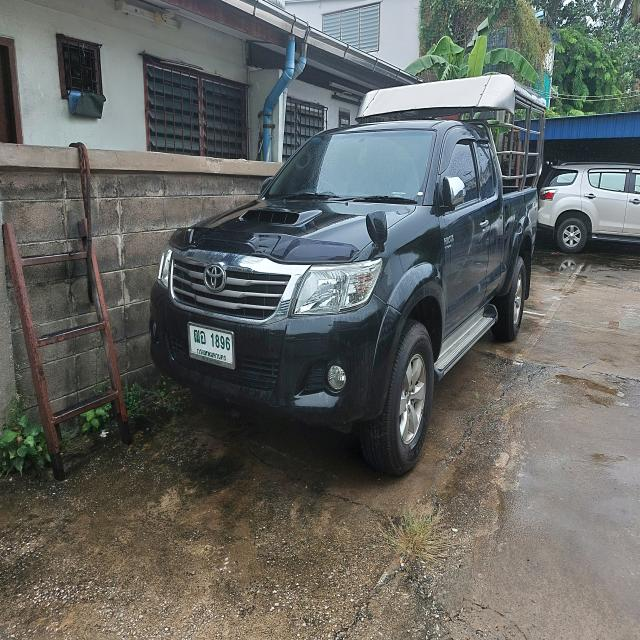license_plate: (186, 320, 239, 372)
